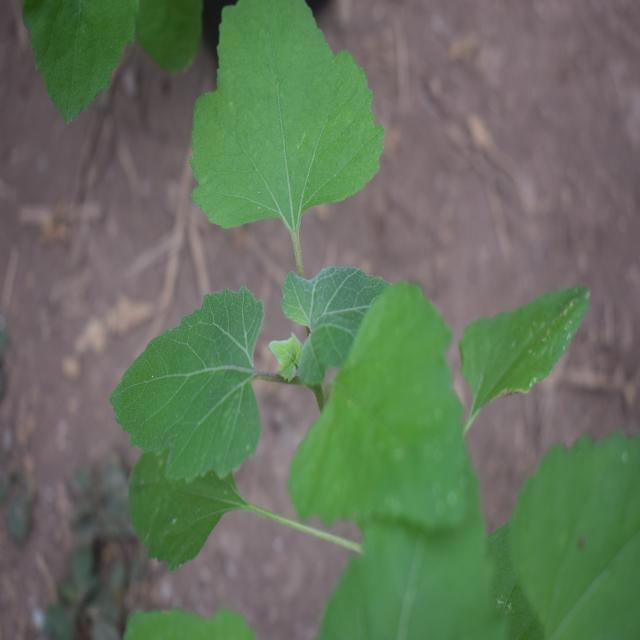cocklebur: (144, 2, 572, 594)
